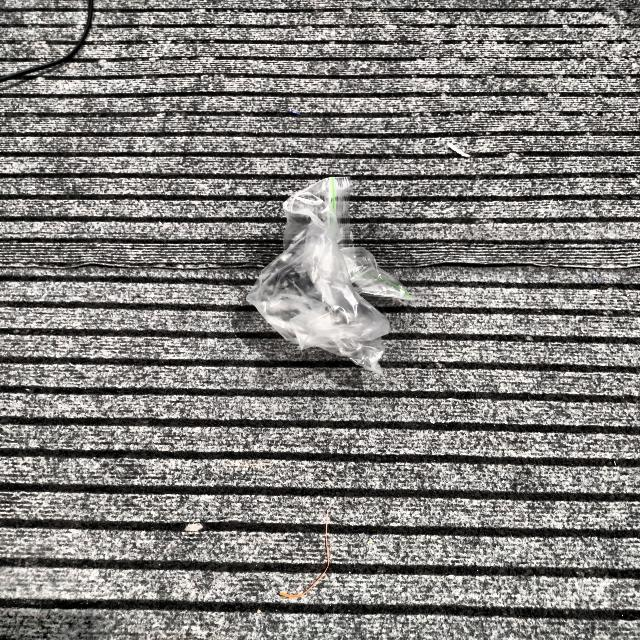plastic bag: (247, 176, 412, 372)
